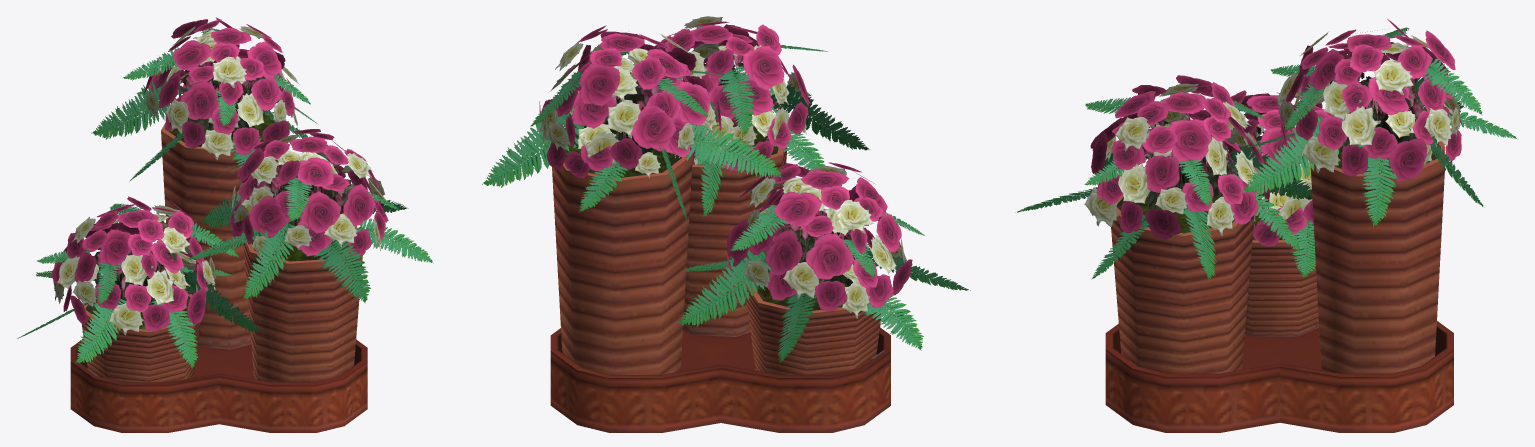
The model's file is furni_0200432.FBX.
3 renders of one model, left to right at view 1: azimuth 30°, elevation 25°; view 2: azimuth 150°, elevation 25°; view 3: azimuth 270°, elevation 25°, orthographic. The views are drawn at different scales.
Parts seen in each view (by area): view 1: furni_0200432; view 2: furni_0200432; view 3: furni_0200432.
Boxes of the visible parts, box(x1,y1,x2,y2) form: furni_0200432: box(17, 17, 433, 432); furni_0200432: box(482, 16, 970, 432); furni_0200432: box(1015, 19, 1516, 432).
Size of the model in its own units: 50.03 by 41.64 by 52.43.
